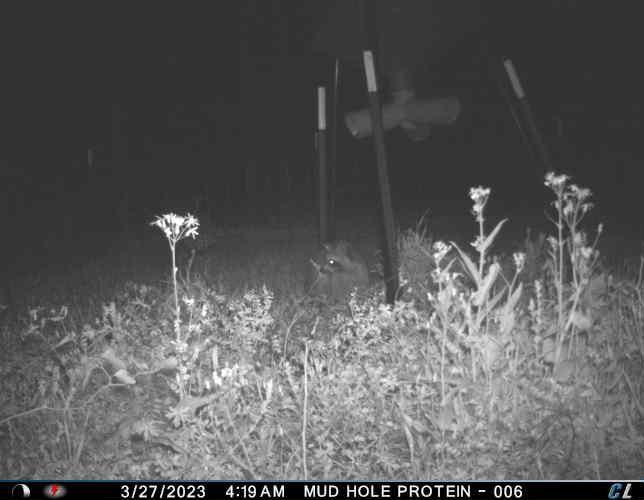Raccoon: (304, 235, 378, 306)
